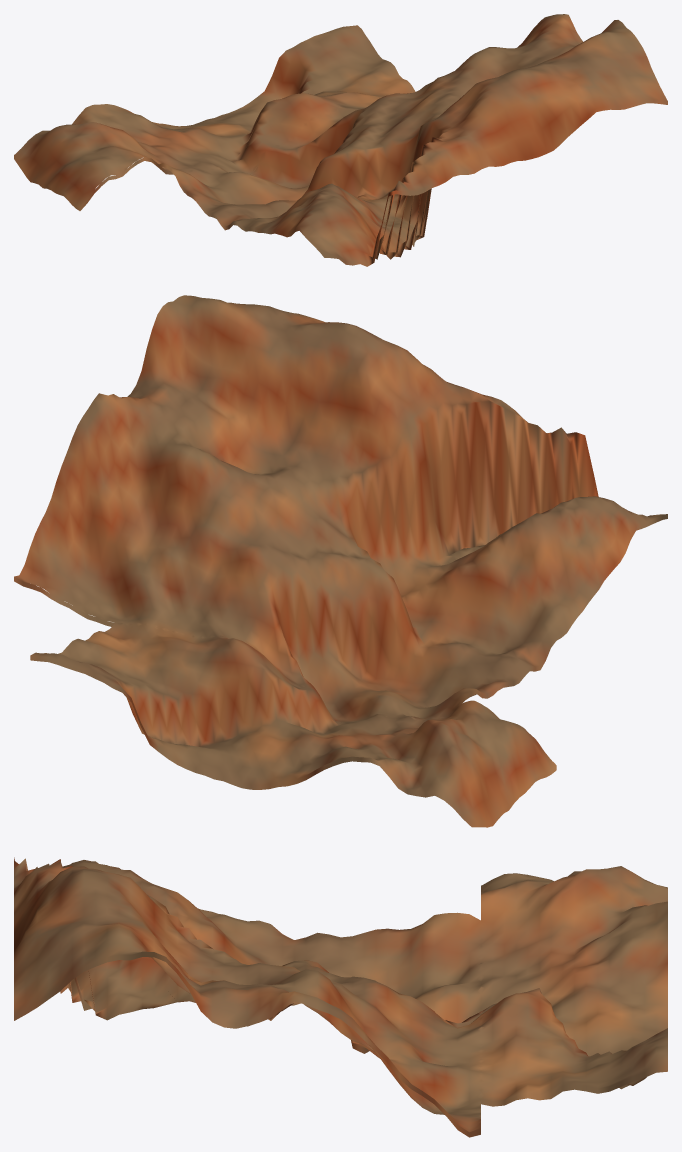
File: terrain-037.glb
3 views of the same model, one above another, from view 1: azimuth 30°, elevation 25°; view 2: azimuth 150°, elevation 25°; view 3: azimuth 270°, elevation 25° (orthographic). The views are drawn at different scales.
Parts seen in each view (by area): view 1: terrain-037; view 2: terrain-037; view 3: terrain-037.
Boxes of the visible parts, box(x1,y1,x2,y2) form: terrain-037: box(14, 14, 667, 266); terrain-037: box(14, 295, 667, 827); terrain-037: box(14, 857, 667, 1137).
Size of the model in its own units: 472 by 205 by 448.
